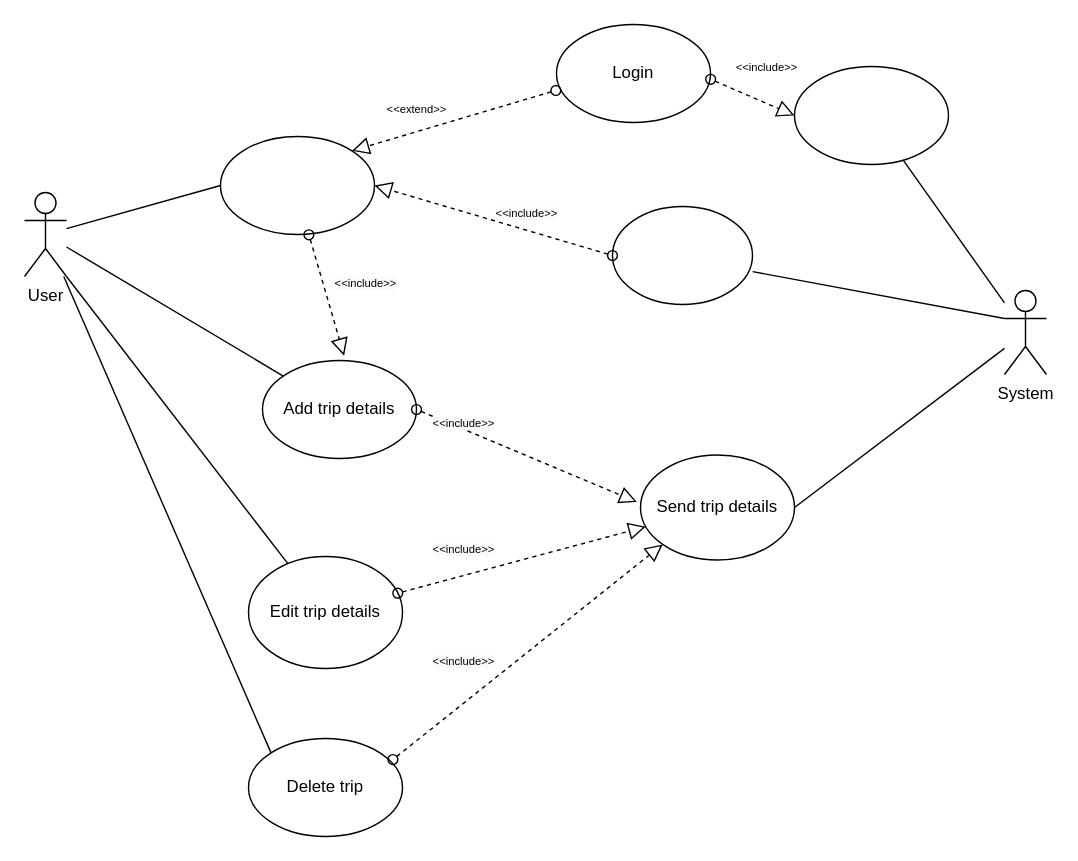
Some shapes in this 1078 by 861 pixel diagram are drawn without their labels. The shapes that lost their labels are listed below. From the top down, each one's centre as x and y in pixels, then its label:
(870,114): Send credentials
(296,184): Add new trip
(681,254): Validate credentials
